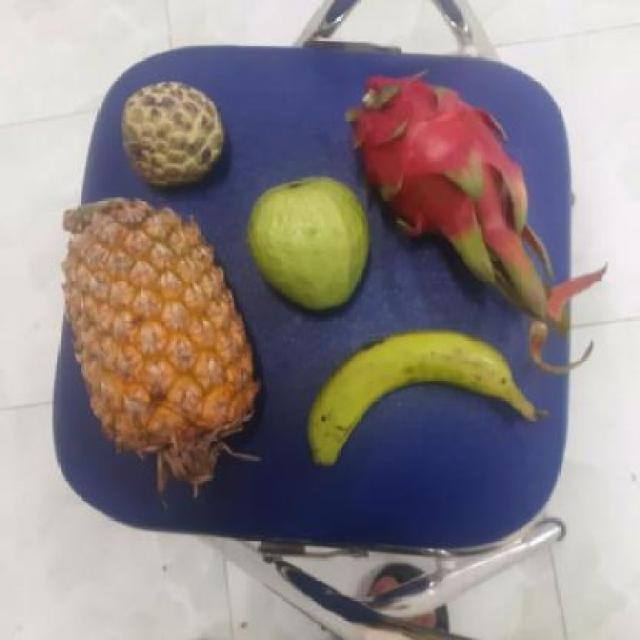banana: (310, 330, 538, 458)
dragon fruit: (352, 75, 530, 247)
guava: (247, 176, 376, 312)
pineapple: (67, 200, 261, 451)
sugar apple: (121, 82, 230, 187)
